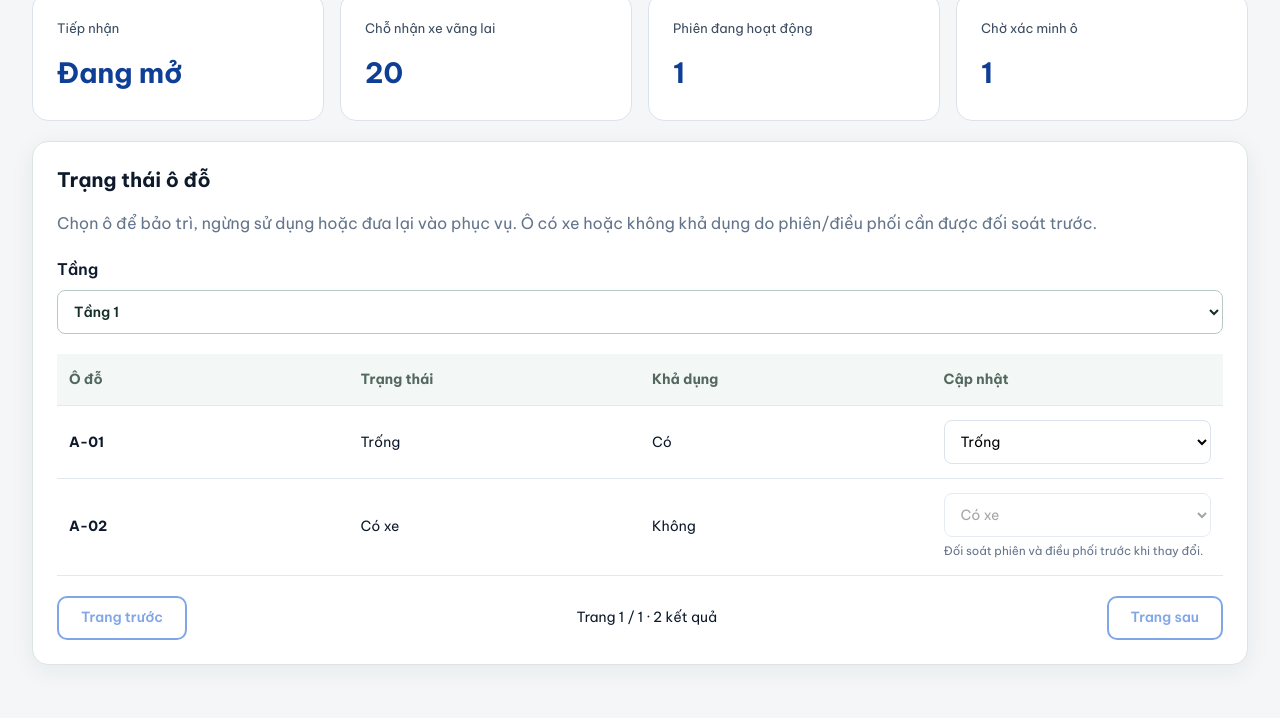
Scenario: changes slot maintenance status with a reason and never offers occupied changes
(page scrolled)
Select "Bảo trì" in the dropdown named "Trạng thái A-01". click: (1077, 442)
box: top-left (944, 420), bottom-right (1211, 464)
(page scrolled)
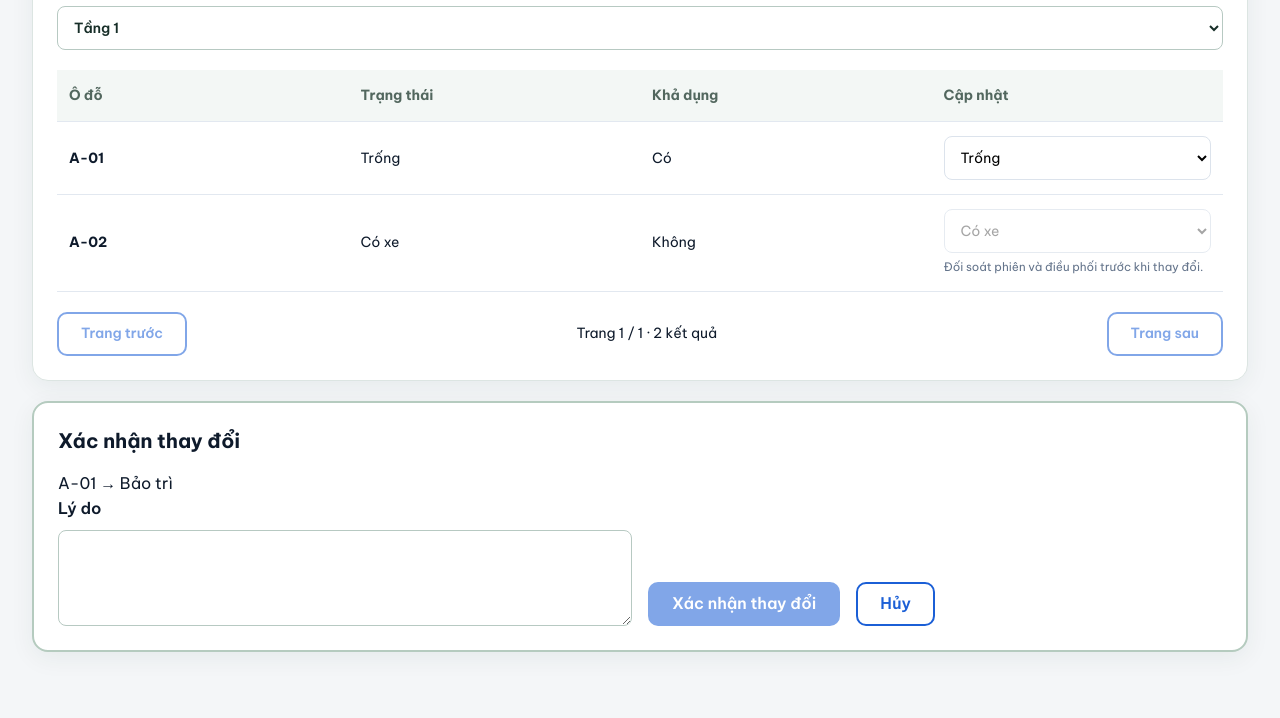
Expected: the dropdown named "Trạng thái A-02" is disabled, top-left (944, 209), bottom-right (1211, 253)
Type "Sửa cảm biến" into the text box labelled "Lý do". click: (345, 578)
box: top-left (58, 530), bottom-right (632, 626)
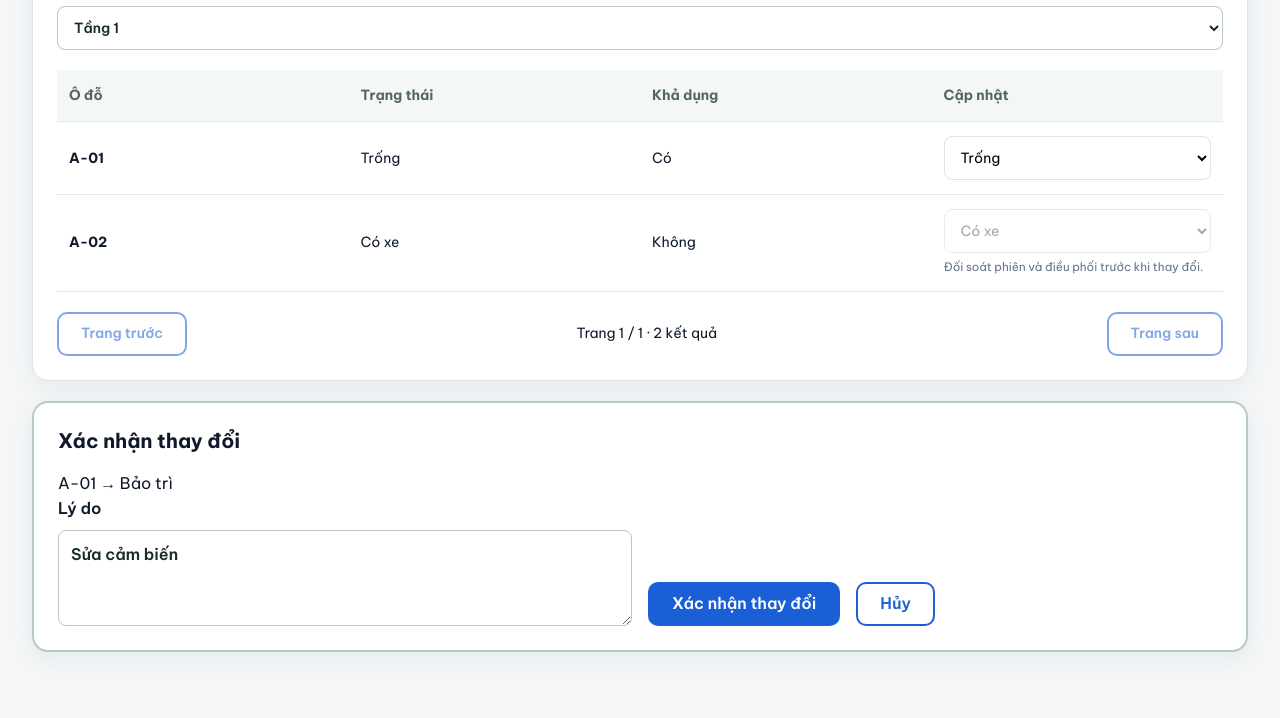
Click the button "Xác nhận thay đổi". click: (744, 604)
box: top-left (648, 582), bottom-right (840, 626)
(page scrolled)
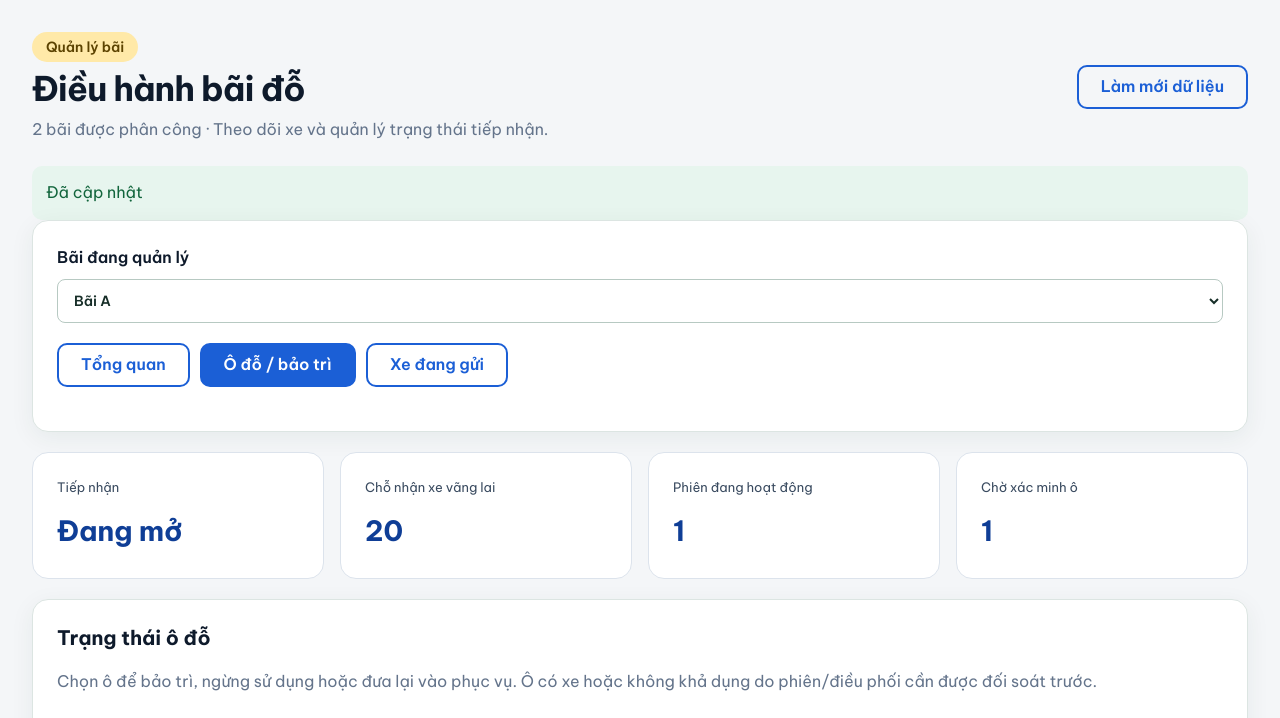
Expected: the text "Đã cập nhật" is shown, top-left (32, 166), bottom-right (1248, 220)
